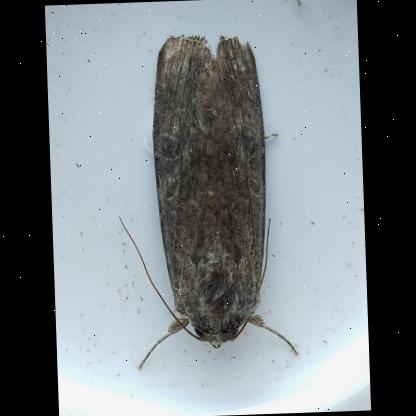Fall Armyworm Moth: (108, 27, 306, 374)
